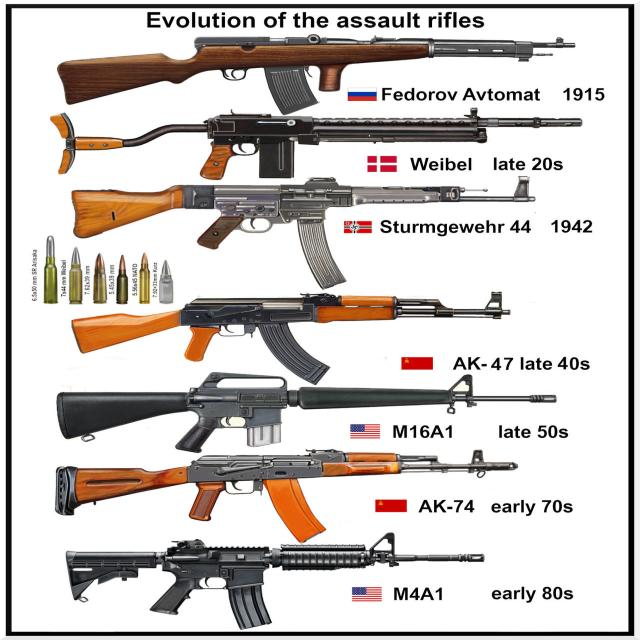Rifle: (72, 177, 538, 290), (56, 28, 578, 114), (56, 449, 518, 543), (65, 533, 486, 630), (72, 294, 508, 386), (50, 113, 584, 180), (56, 373, 472, 453)
